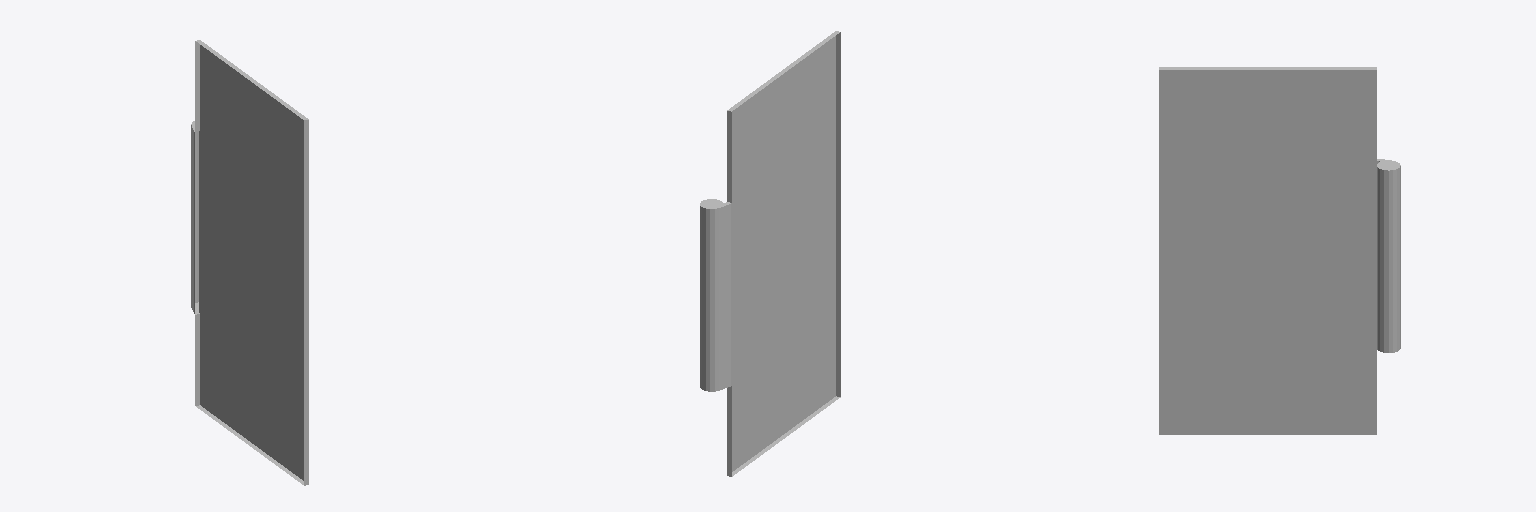
Rendered from sgc_door_hinge_door.obj.
3 views of the same model, side by side, from view 1: azimuth 30°, elevation 25°; view 2: azimuth 150°, elevation 25°; view 3: azimuth 270°, elevation 25° (orthographic).
Visible parts, largest first — view 1: Hinge_Door_Low; view 2: Hinge_Door_Low; view 3: Hinge_Door_Low.
Boxes of the visible parts, x1=… form: Hinge_Door_Low: x1=191, y1=40, x2=308, y2=485; Hinge_Door_Low: x1=700, y1=31, x2=840, y2=476; Hinge_Door_Low: x1=1159, y1=67, x2=1400, y2=434.
Bounding box in the file's own units: 0.0089 × 0.127 × 0.0762.